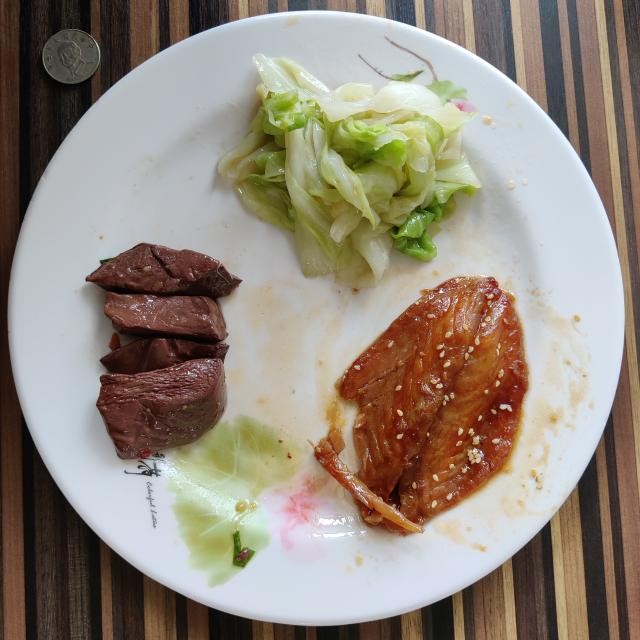Kabayaki sea bream fillet: (314, 276, 528, 532)
cabbage: (218, 55, 481, 288)
coin: (42, 29, 100, 84)
pig blood curd: (86, 242, 241, 459)
